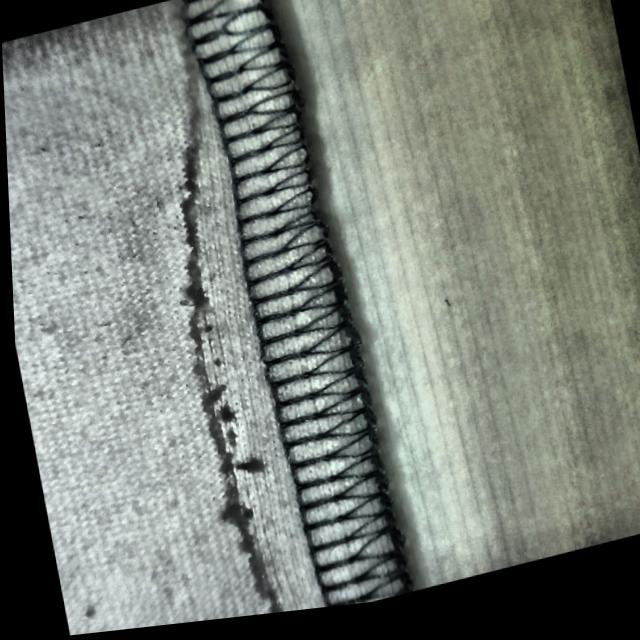seam: (106, 45, 405, 631)
